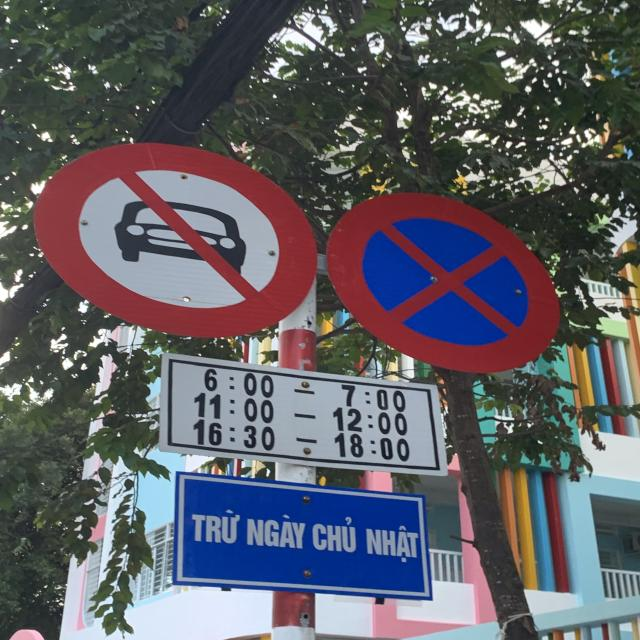Cam_Dung_Va_Dau_Xe: (322, 191, 562, 374)
Cam_O_To: (33, 138, 325, 340)
